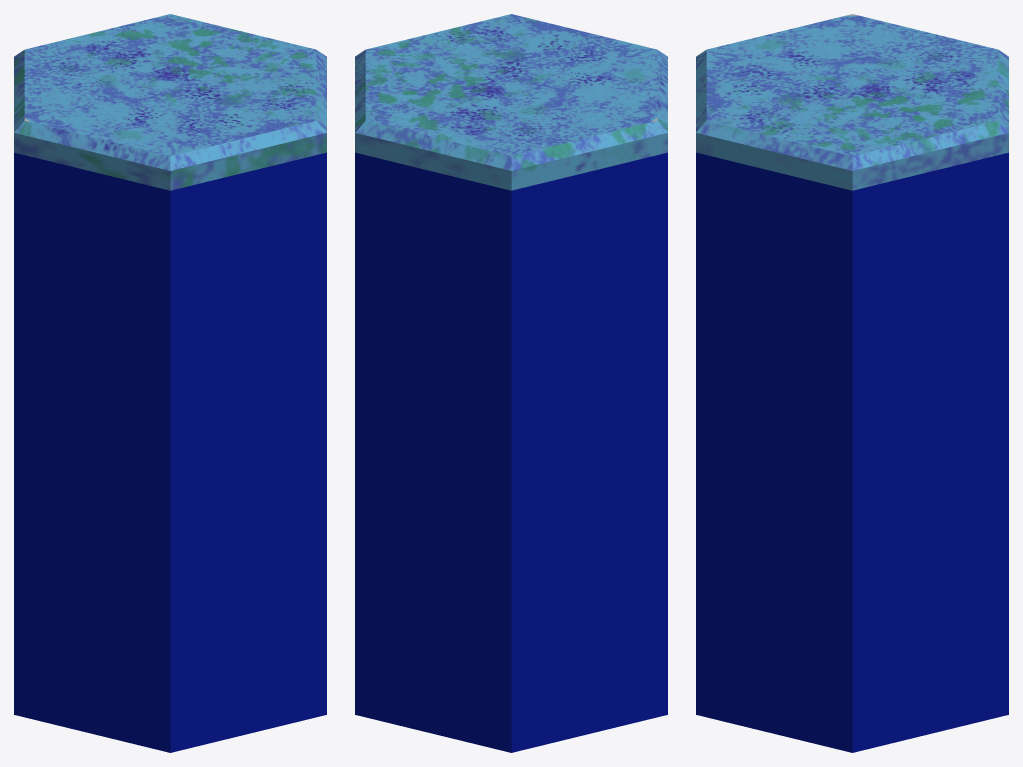
The model's file is TerrainMagic.fbx.
The picture shows the model from 3 angles, left to right: view 1: azimuth 30°, elevation 25°; view 2: azimuth 150°, elevation 25°; view 3: azimuth 270°, elevation 25°; orthographic projection.
Parts seen in each view (by area): view 1: TerrainMagic_LOD0; view 2: TerrainMagic_LOD0; view 3: TerrainMagic_LOD0.
Boxes of the visible parts, bbox=[...] form: TerrainMagic_LOD0: bbox=[14, 14, 326, 752]; TerrainMagic_LOD0: bbox=[355, 14, 667, 752]; TerrainMagic_LOD0: bbox=[696, 14, 1008, 752].
Size of what is drawn, in the model's own units: 500 by 904 by 433.
